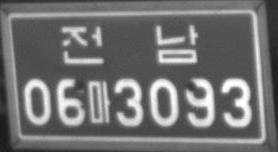0: (148, 77, 180, 128), (22, 77, 52, 126)
3: (219, 76, 254, 129), (113, 77, 144, 127)
6: (56, 77, 86, 127)
9: (185, 76, 216, 129)
마: (86, 80, 111, 123)
전남_D: (60, 24, 200, 66)
